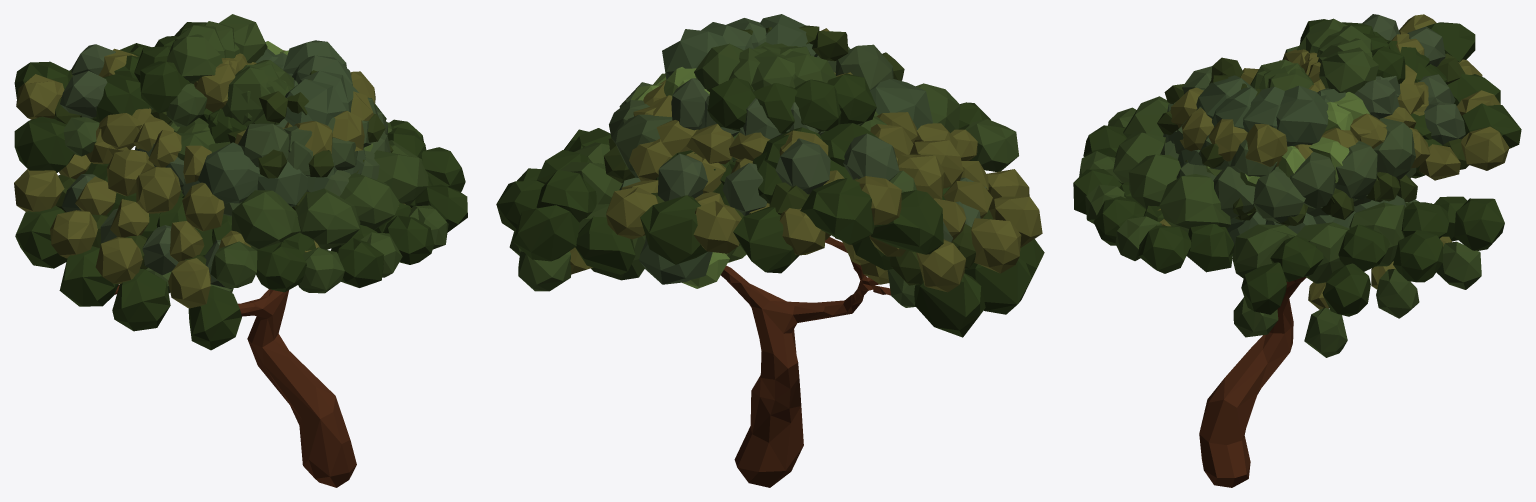
Rendered from TreeModel1.fbx.
3 renders of one model, left to right at view 1: azimuth 30°, elevation 25°; view 2: azimuth 150°, elevation 25°; view 3: azimuth 270°, elevation 25°, orthographic. The views are drawn at different scales.
Parts seen in each view (by area): view 1: RegularTree2; view 2: RegularTree2; view 3: RegularTree2.
Part boxes in pixels (x1,y1,x2,y2): RegularTree2: (14, 14, 467, 487); RegularTree2: (496, 14, 1044, 487); RegularTree2: (1073, 14, 1521, 487).
Bounding box in the file's own units: 2137 × 2177 × 2088.
